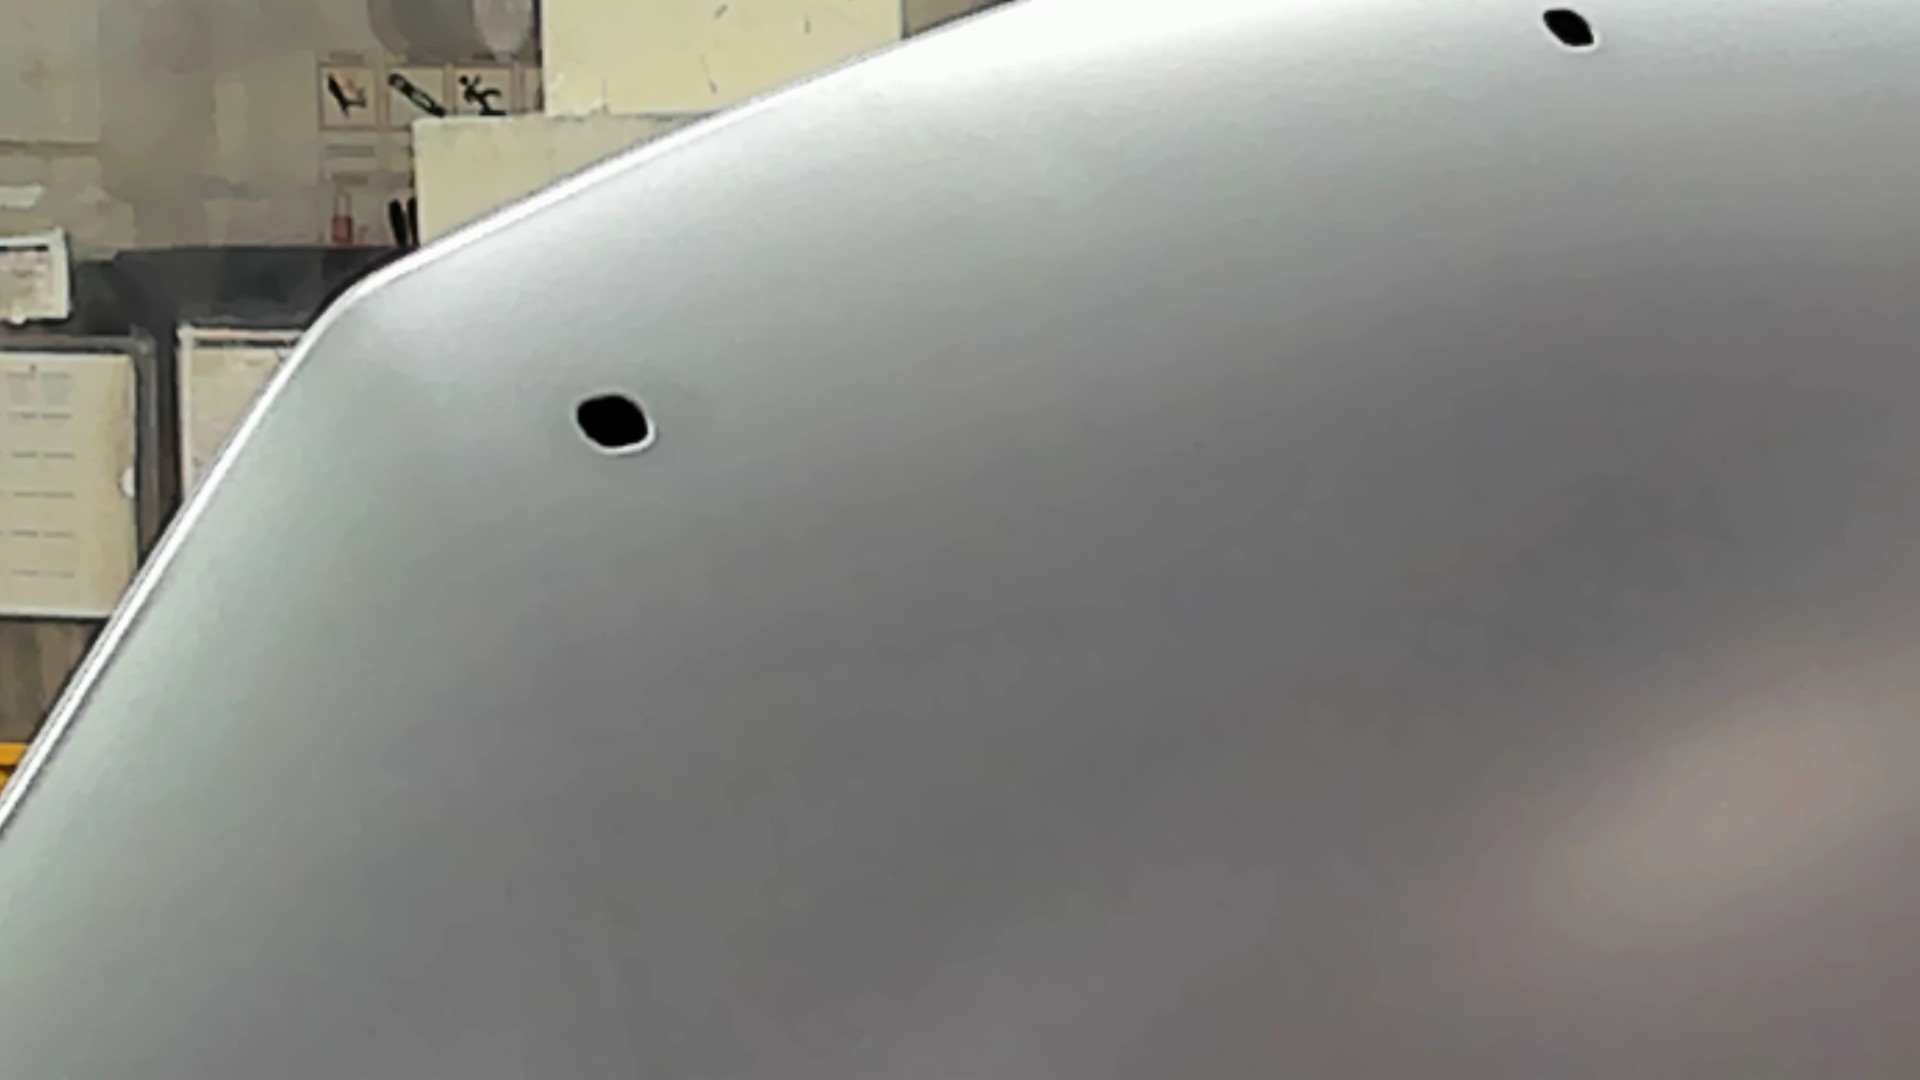amorfo: (563, 392, 663, 462), (1538, 4, 1602, 61)
capo: (731, 138, 1920, 1059)
